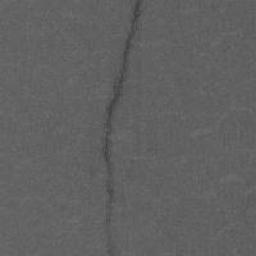Inclusion: (102, 0, 145, 256)
